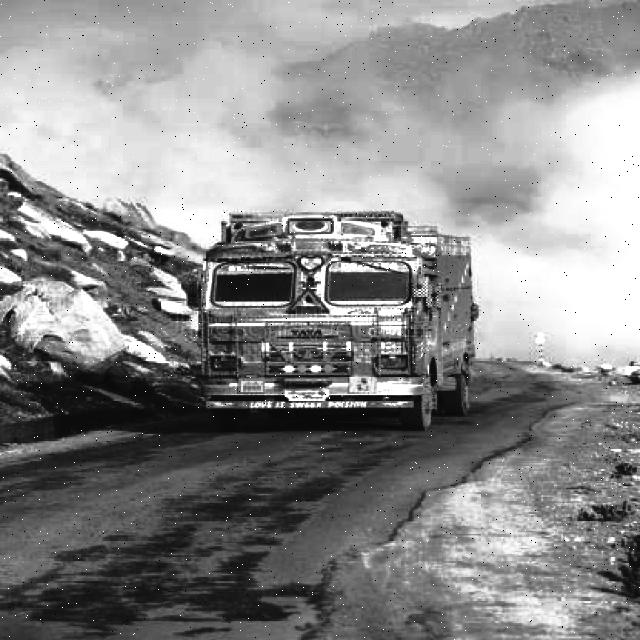HCV: (195, 218, 461, 436)
